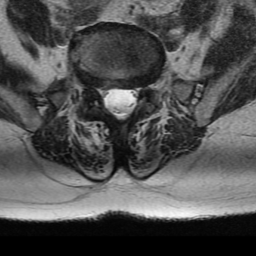CCS_normal: (114, 78, 125, 128)
LFS_severe_stenosis: (137, 74, 147, 99)
LLS_normal: (125, 79, 137, 122)
RFS_severe_stenosis: (89, 75, 103, 104)
RLS_normal: (103, 75, 114, 121)
